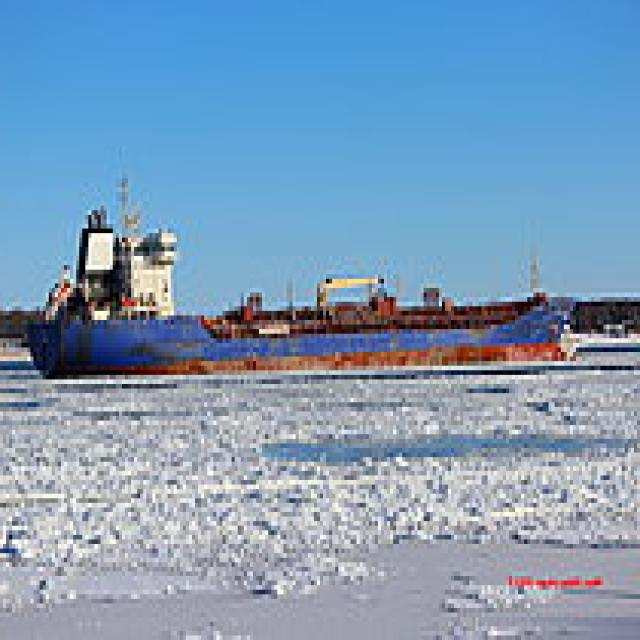Tanker: (28, 164, 582, 375)
